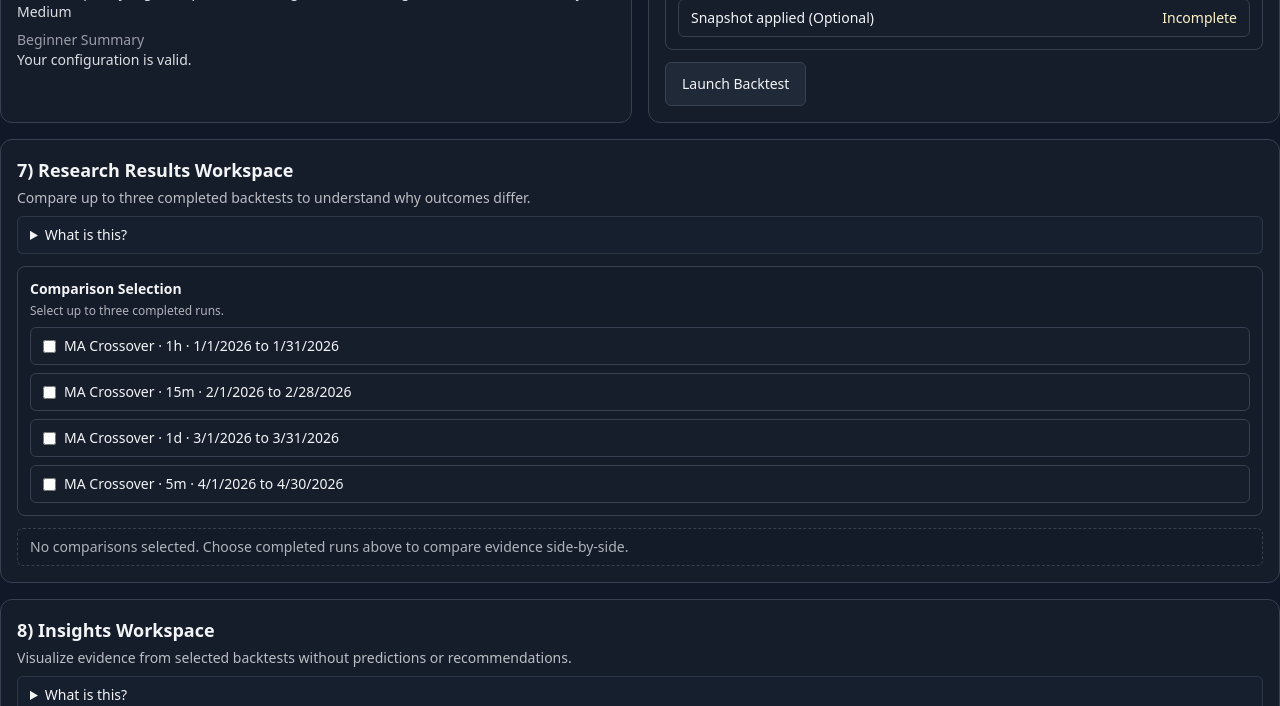
Scenario: StrategyLabPage Prompt 4.2 › renders Experiment Log section and local-session notice
(page scrolled)
What coordinates should you click on to do the following:
click the checkbox named "Select comparison run bt-1"
I would click on:
 (50, 346)
Its box is [43,340,56,353].
(page scrolled)
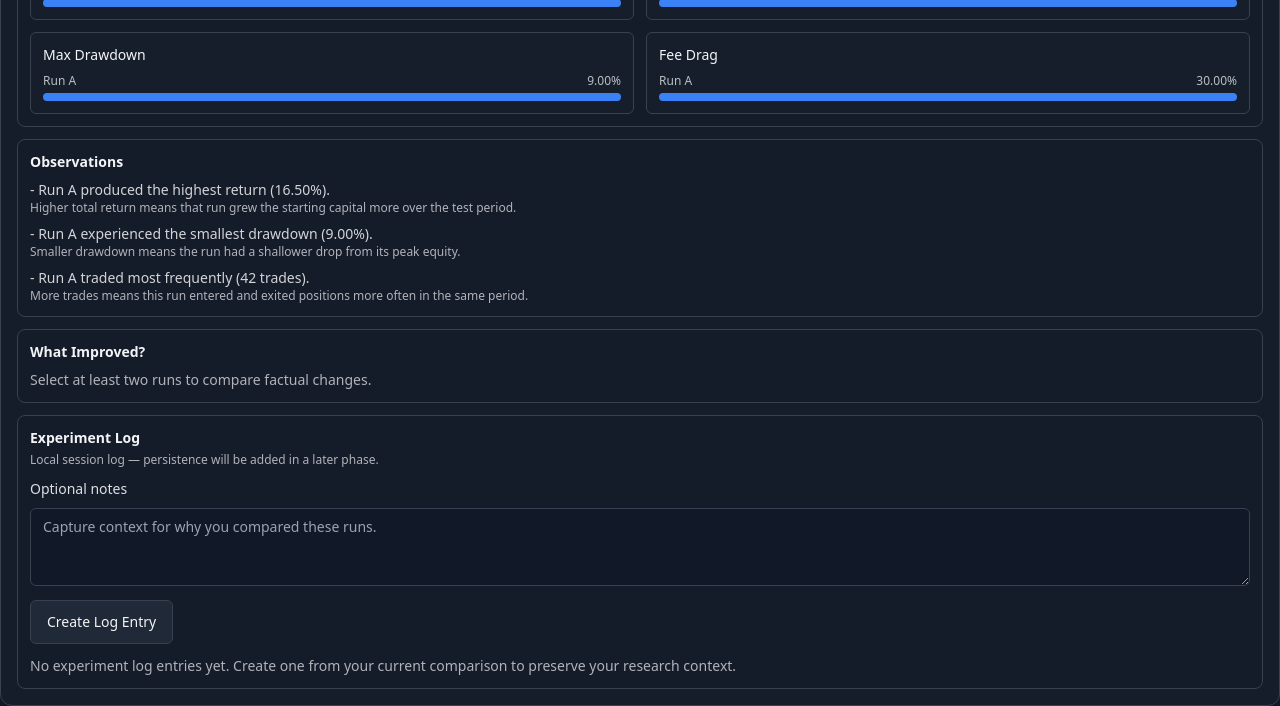
expect the element with test id "experiment-log-section" is shown: met, box [17,415,1263,689]
expect the text with test id "experiment-log-local-session-notice" reads "Local session log — persistence will be added in a later phase.": met, box [30,451,379,468]
